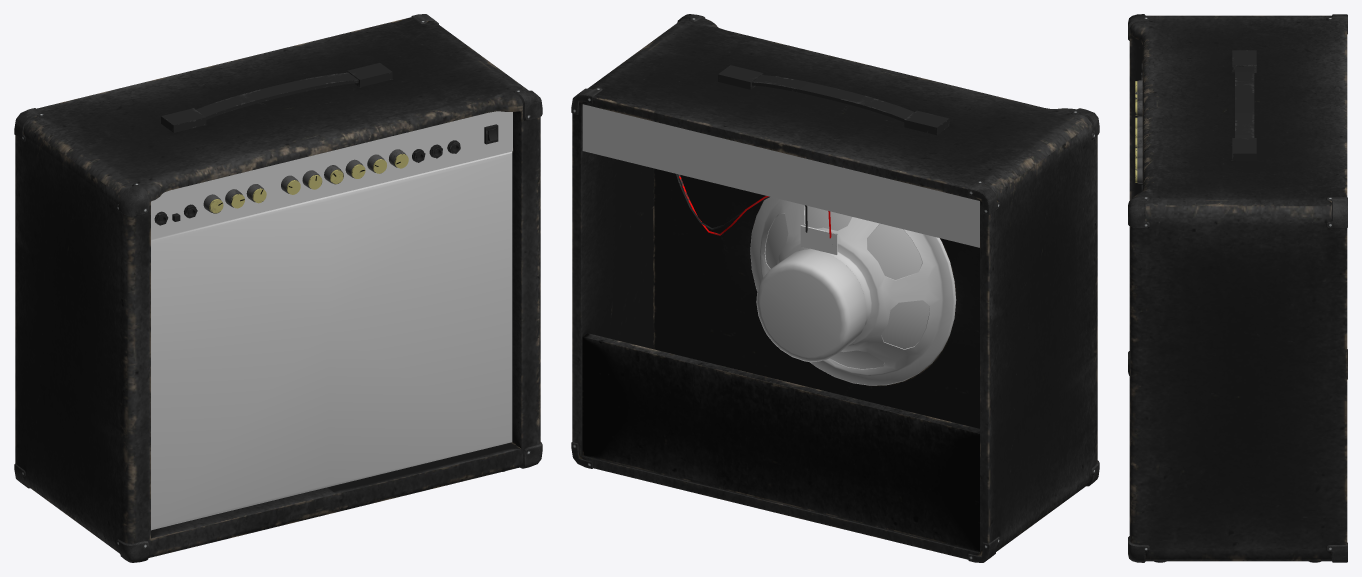
File: Amp.fbx
3 renders of one model, left to right at view 1: azimuth 30°, elevation 25°; view 2: azimuth 150°, elevation 25°; view 3: azimuth 270°, elevation 25°, orthographic. The views are drawn at different scales.
Visible parts, largest first — view 1: Amp; view 2: Amp; view 3: Amp.
Part boxes in pixels (x1,y1,x2,y2): Amp: [14, 14, 542, 562]; Amp: [571, 14, 1099, 562]; Amp: [1128, 14, 1347, 562].
Size of the model in its own units: 79.43 by 70.62 by 37.37.
